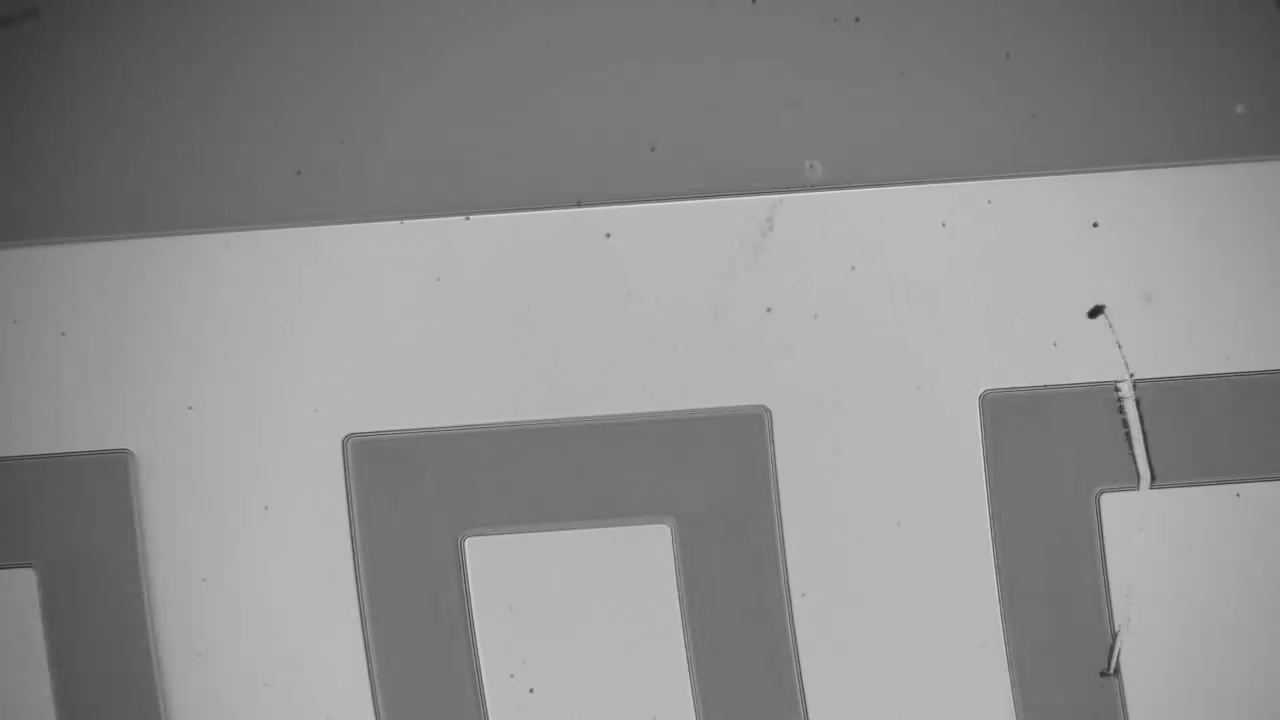Short_circuit: (1094, 357, 1199, 519)
